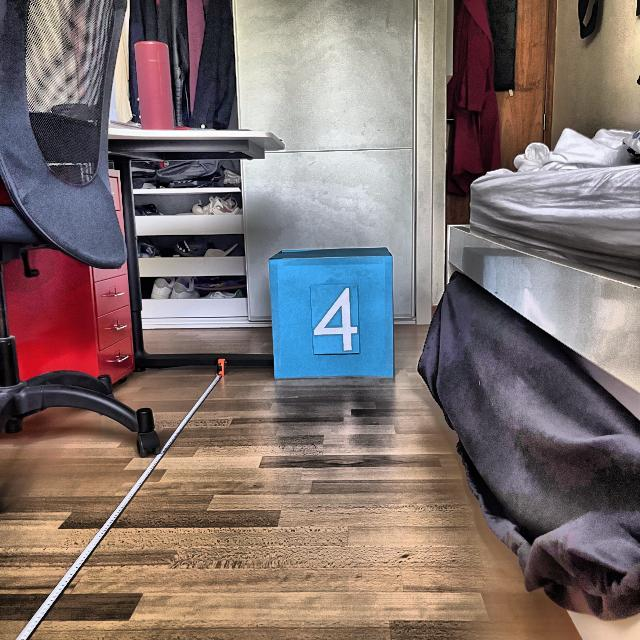blue box: (267, 246, 401, 380)
four: (311, 287, 358, 352)
